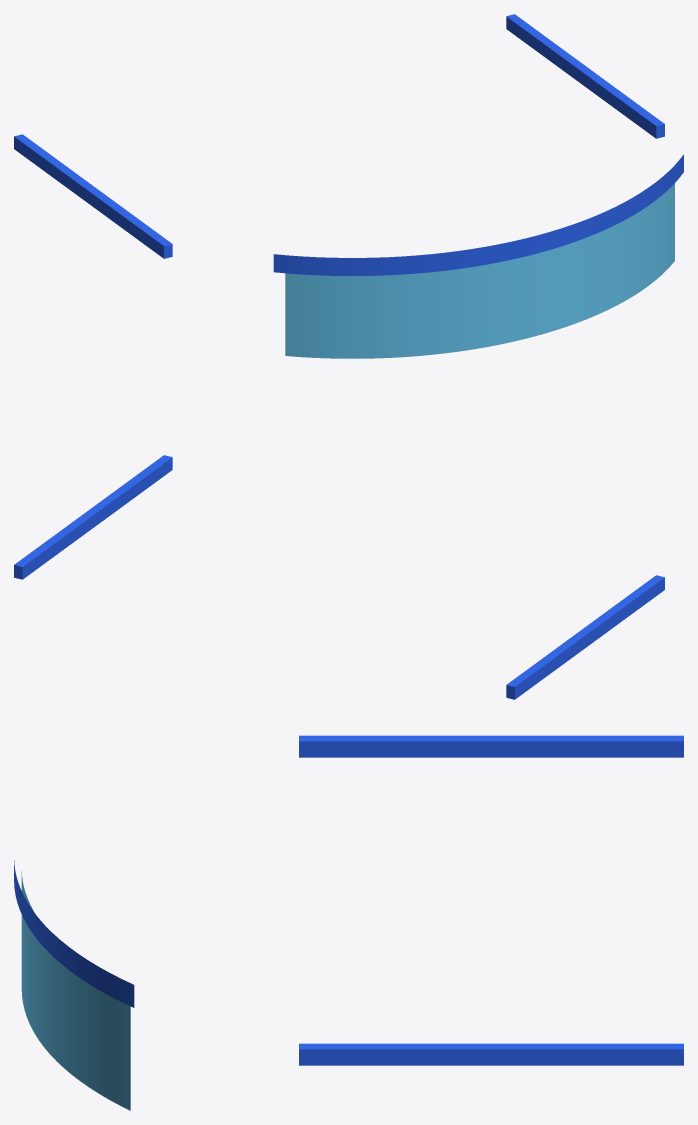
The model's file is glasses_mirror_female.glb.
3 renders of one model, top to bottom at view 1: azimuth 30°, elevation 25°; view 2: azimuth 150°, elevation 25°; view 3: azimuth 270°, elevation 25°, orthographic. The views are drawn at different scales.
Parts seen in each view (by area): view 1: lens, frame, arm (×2); view 2: arm (×2); view 3: arm (×2), lens, frame.
Part boxes in pixels (x1=…): lens: x1=285, y1=183, x2=674, y2=358; frame: x1=273, y1=154, x2=683, y2=275; arm (×2): x1=14, y1=14, x2=664, y2=258; arm (×2): x1=14, y1=455, x2=664, y2=699; arm (×2): x1=299, y1=735, x2=683, y2=1065; lens: x1=21, y1=871, x2=130, y2=1110; frame: x1=14, y1=860, x2=134, y2=1007.
Size of the model in its own units: 0.289 by 0.057 by 0.2611.
